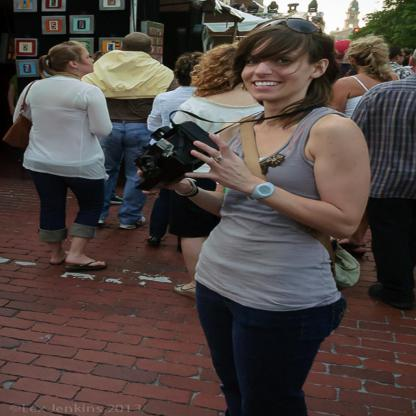face: (242, 38, 312, 102), (70, 47, 99, 75)
